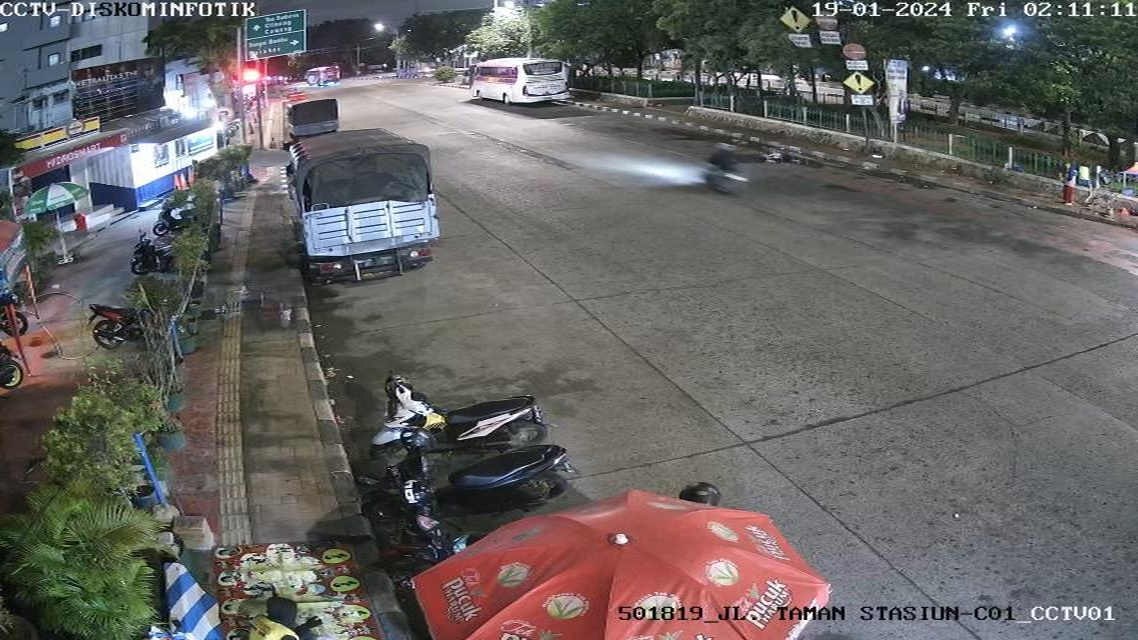Payung: (400, 494, 841, 640), (18, 180, 91, 217)
